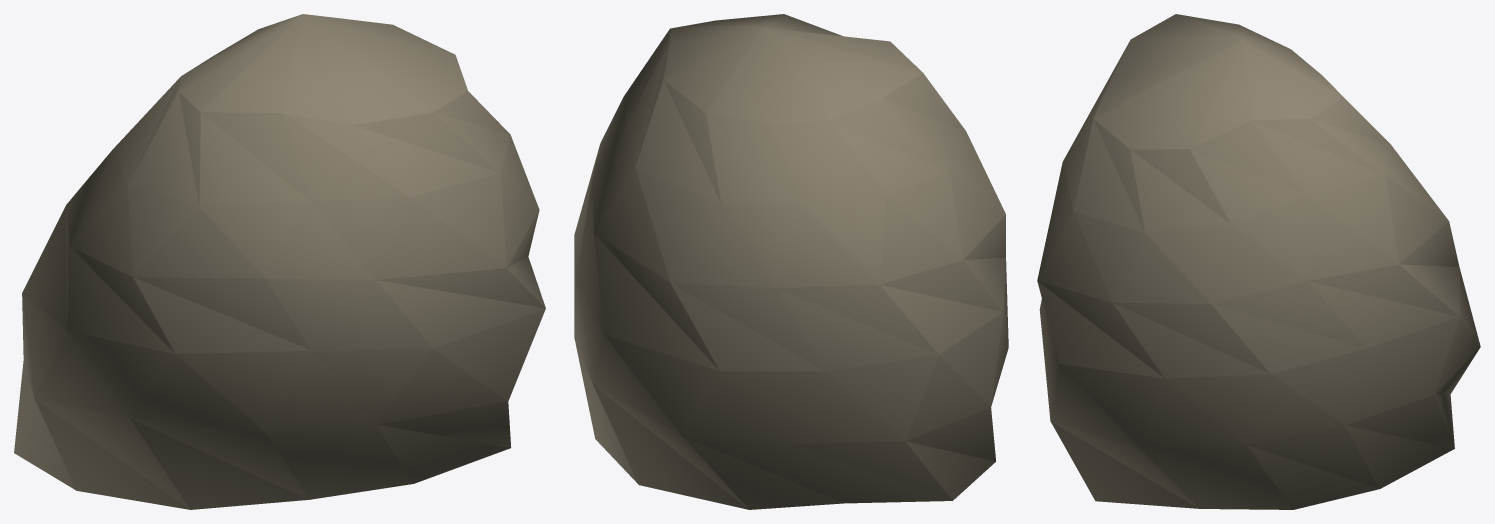
The model's file is boulder-v1.shadow.glb.
The picture shows the model from 3 angles, left to right: view 1: azimuth 30°, elevation 25°; view 2: azimuth 150°, elevation 25°; view 3: azimuth 270°, elevation 25°; orthographic projection. The views are drawn at different scales.
Parts seen in each view (by area): view 1: boulder-v1.shadow; view 2: boulder-v1.shadow; view 3: boulder-v1.shadow.
Part boxes in pixels (<box>): boulder-v1.shadow: <box>14,14,545,509</box>; boulder-v1.shadow: <box>574,14,1008,509</box>; boulder-v1.shadow: <box>1037,14,1480,509</box>.
Bounding box in the file's own units: 3.17 × 2.8 × 2.82.
